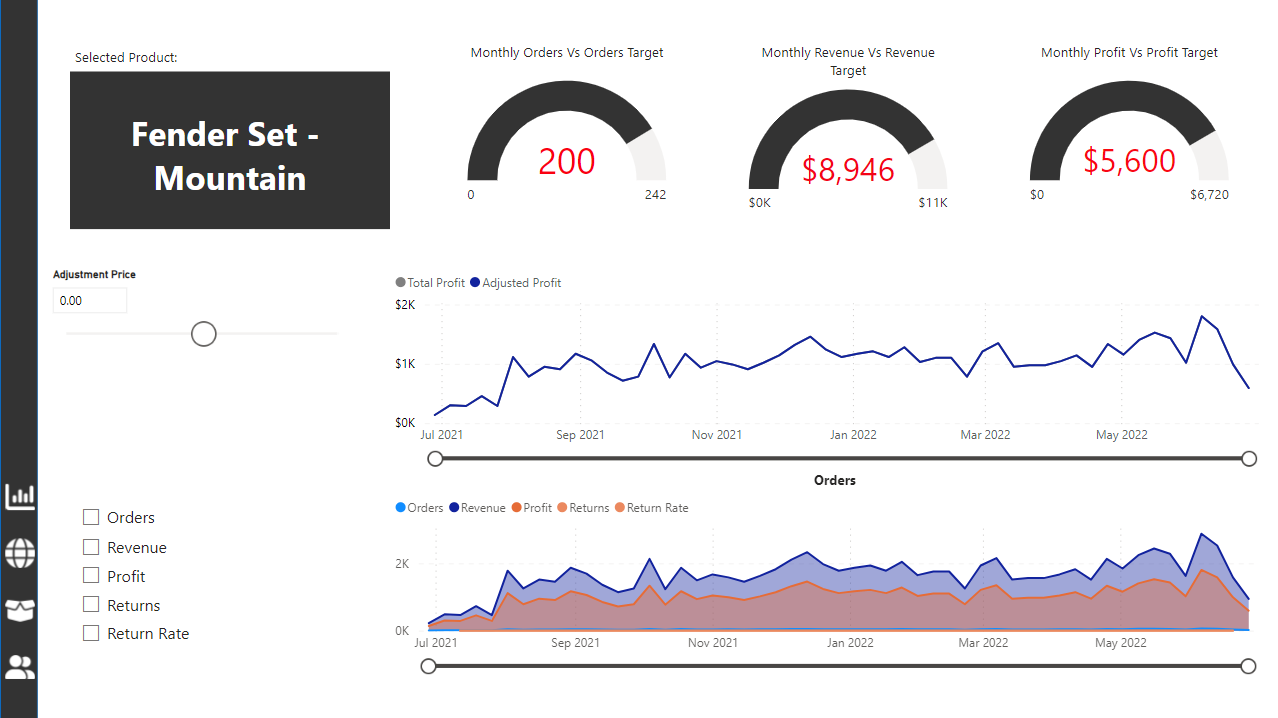

The dashboard page shown, as its layout file describes it:
{"tool":"powerbi","page":{"name":"Product Detail","canvas":[1280,720],"ordinal":2},"visuals":[{"type":"shape","box":[0,0,37.9,720],"z":0},{"type":"actionButton","box":[1.2,478,37.9,40.3],"z":0,"group":"g1"},{"type":"gauge","title":"Monthly Orders Vs Orders Target","fields":{"Y":["Measure Table.Total Orders"],"MaxValue":["Measure Table.Order Target"]},"box":[462.5,44,209,185.8],"z":1000},{"type":"actionButton","box":[1.2,591.3,37.9,40.3],"z":1000,"group":"g1"},{"type":"gauge","title":"Monthly Revenue Vs Revenue Target","fields":{"Y":["Measure Table.Total Revenue"],"MaxValue":["Measure Table.Revenue Target"]},"box":[744,44,209,185.8],"z":2000},{"type":"actionButton","box":[1.2,647.9,37.9,40.3],"z":2000,"group":"g1"},{"type":"gauge","title":"Monthly Profit Vs Profit Target","fields":{"Y":["Measure Table.Total Profit"],"MaxValue":["Measure Table.Profit Target"]},"box":[1025.6,44,209,185.8],"z":3000},{"type":"actionButton","box":[1.2,534.6,37.9,40.3],"z":3000,"group":"g1"},{"type":"lineChart","title":"Profit Trending","fields":{"Category":["Calendar Lookup.Date Hierarchy.Start of Year","Calendar Lookup.Date Hierarchy.Start of Month","Calendar Lookup.Date Hierarchy.Start of Week"],"Y":["Measure Table.Total Profit","Measure Table.Adjusted Profit"]},"box":[389.9,264,889.9,206.6],"z":4000},{"type":"areaChart","fields":{"Y":["Measure Table.Total Orders"],"Category":["Calendar Lookup.Date Hierarchy.Start of Year","Calendar Lookup.Date Hierarchy.Start of Month","Calendar Lookup.Date Hierarchy.Start of Week"]},"box":[389.9,470.6,889.9,206.6],"z":5000},{"type":"card","fields":{"Values":["Min(Product Lookup.ProductName)"]},"box":[69.7,72.1,320.3,157.7],"z":6000},{"type":"textbox","box":[69.7,44,260.4,36.7],"z":7000},{"type":"group","id":"g1","title":"Group 1","box":[1.2,478,37.9,210.3],"z":8000},{"type":"slicer","fields":{"Values":["Adjustment Price.Adjustment Price"]},"box":[40.3,264,320.3,138.1],"z":9000},{"type":"slicer","fields":{"Values":["Parameter.Parameter"]},"box":[69.7,498.7,201.7,221.3],"z":10000}]}

Visuals, with their boxes on the page's 1280x720 design canvas (x1, y1, x2, y2). These are canvas units, not pixel positions in the 1278x718 screenshot, which may show the page scaled, cropped or inside an application window:
shape: <region>0, 0, 38, 720</region>
actionButton: <region>1, 478, 39, 518</region>
"Monthly Orders Vs Orders Target" gauge: <region>462, 44, 672, 230</region>
actionButton: <region>1, 591, 39, 632</region>
"Monthly Revenue Vs Revenue Target" gauge: <region>744, 44, 953, 230</region>
actionButton: <region>1, 648, 39, 688</region>
"Monthly Profit Vs Profit Target" gauge: <region>1026, 44, 1235, 230</region>
actionButton: <region>1, 535, 39, 575</region>
"Profit Trending" lineChart: <region>390, 264, 1280, 471</region>
areaChart - Measure Table.Total Orders x Calendar Lookup.Date Hierarchy.Start of Year: <region>390, 471, 1280, 677</region>
card - Min(Product Lookup.ProductName): <region>70, 72, 390, 230</region>
textbox: <region>70, 44, 330, 81</region>
"Group 1" group: <region>1, 478, 39, 688</region>
slicer - Adjustment Price.Adjustment Price: <region>40, 264, 361, 402</region>
slicer - Parameter.Parameter: <region>70, 499, 271, 720</region>
